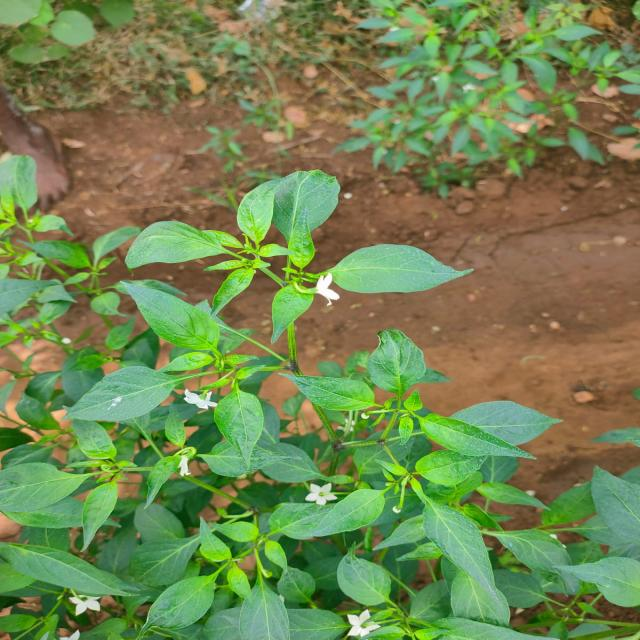Mosaic_virus: (0, 152, 419, 640), (407, 374, 640, 640)
